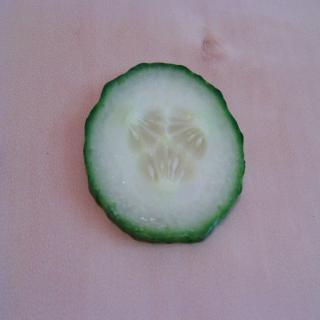Cucumber: (82, 61, 246, 244)
